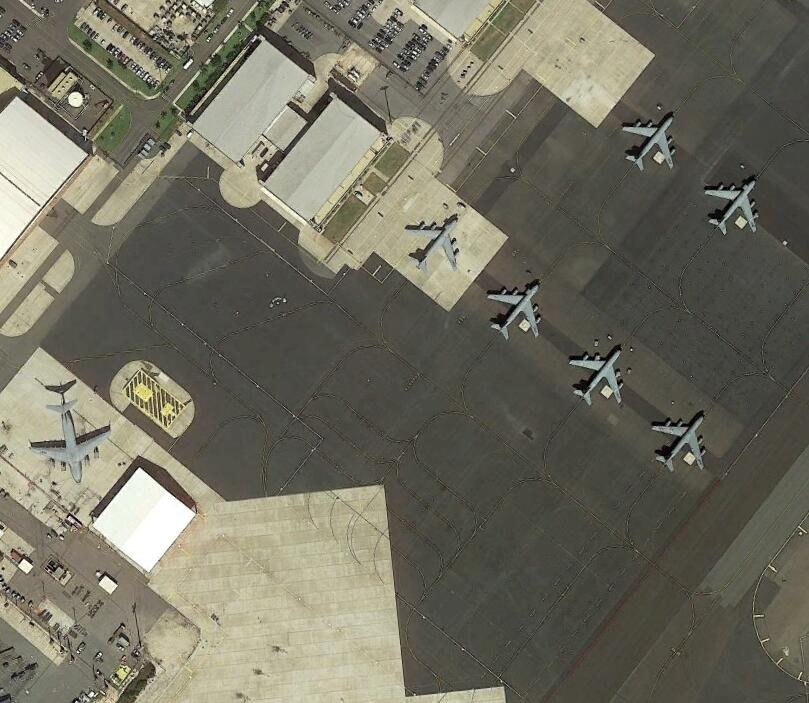A14: (703, 175, 764, 239), (651, 408, 710, 474), (487, 277, 545, 343), (570, 345, 626, 408), (622, 114, 681, 173), (407, 214, 462, 273)
A3: (29, 398, 114, 486)
